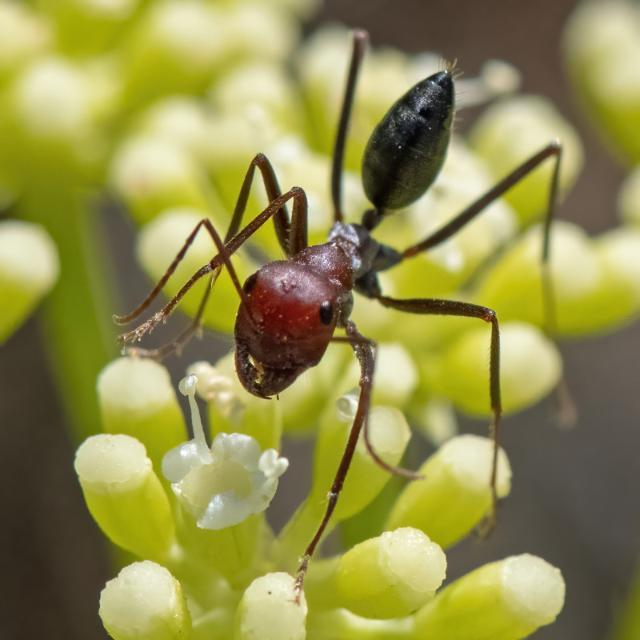Cataglyphis: (190, 32, 512, 412)
